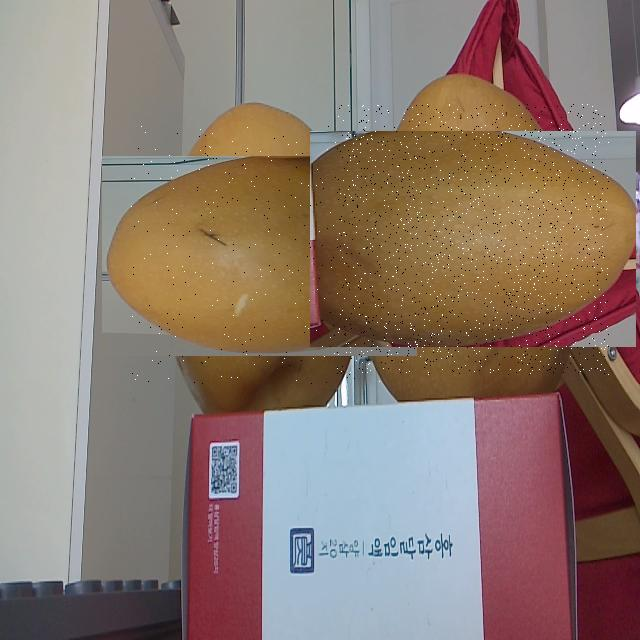pear: (337, 104, 609, 375), (131, 126, 388, 384)
